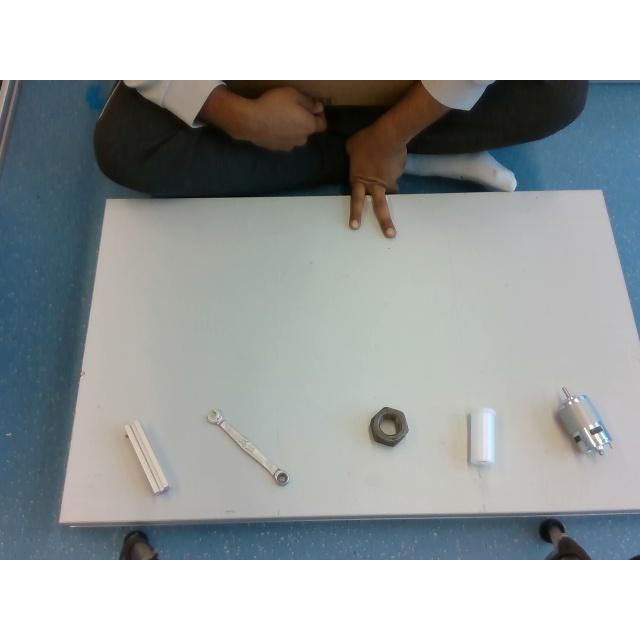F20_20_G: (124, 418, 168, 494)
M30: (368, 406, 408, 446)
Motor2: (556, 386, 612, 454)
Spacer: (467, 407, 495, 465)
Wrench: (207, 408, 291, 484)
